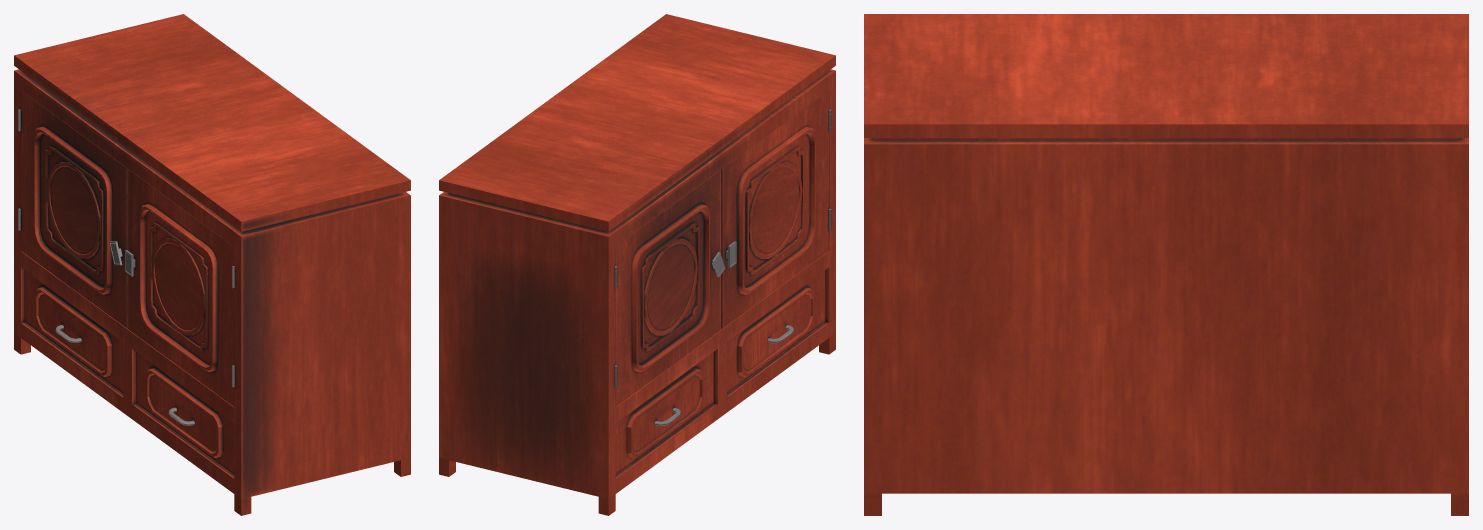
File: SM_Wood_Drawers.fbx
3 views of the same model, side by side, from view 1: azimuth 30°, elevation 25°; view 2: azimuth 150°, elevation 25°; view 3: azimuth 270°, elevation 25° (orthographic). The views are drawn at different scales.
Parts seen in each view (by area): view 1: SM_Wood_Drawers; view 2: SM_Wood_Drawers; view 3: SM_Wood_Drawers.
Boxes of the visible parts, x1,y1,x2,y2 form: SM_Wood_Drawers: [14, 14, 410, 515]; SM_Wood_Drawers: [439, 14, 835, 515]; SM_Wood_Drawers: [864, 14, 1468, 515].
Bounding box in the file's own units: 50.25 × 111 × 79.06.
Materials: 1 (1 with a texture image).
